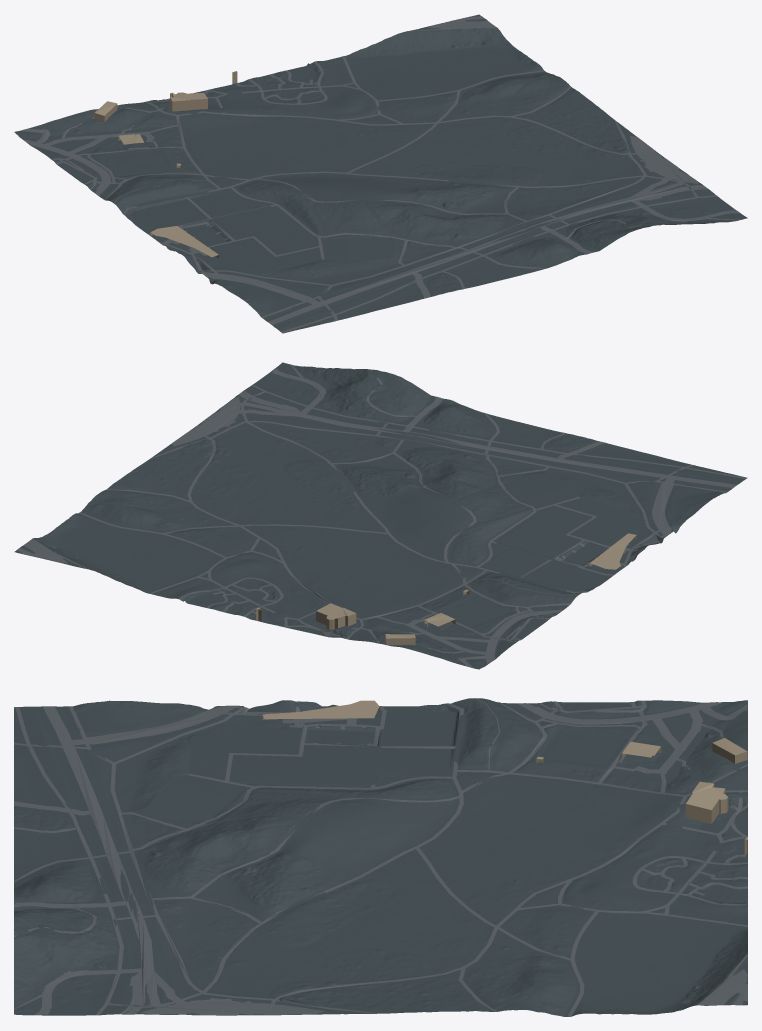
The model's file is epsg26910-1426-10886.lod0.glb.
3 views of the same model, one above another, from view 1: azimuth 30°, elevation 25°; view 2: azimuth 150°, elevation 25°; view 3: azimuth 270°, elevation 25° (orthographic). The views are drawn at different scales.
Visible parts, largest first — view 1: epsg26910-1426-10886-lod0; view 2: epsg26910-1426-10886-lod0; view 3: epsg26910-1426-10886-lod0.
Boxes of the visible parts, box(x1,y1,x2,y2) form: epsg26910-1426-10886-lod0: box(14, 14, 747, 333); epsg26910-1426-10886-lod0: box(14, 362, 747, 669); epsg26910-1426-10886-lod0: box(14, 698, 747, 1016).
Bounding box in the file's own units: 384 × 16.46 × 384.
